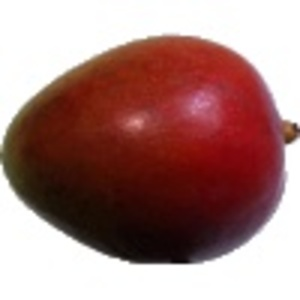manga: (1, 33, 300, 264)
